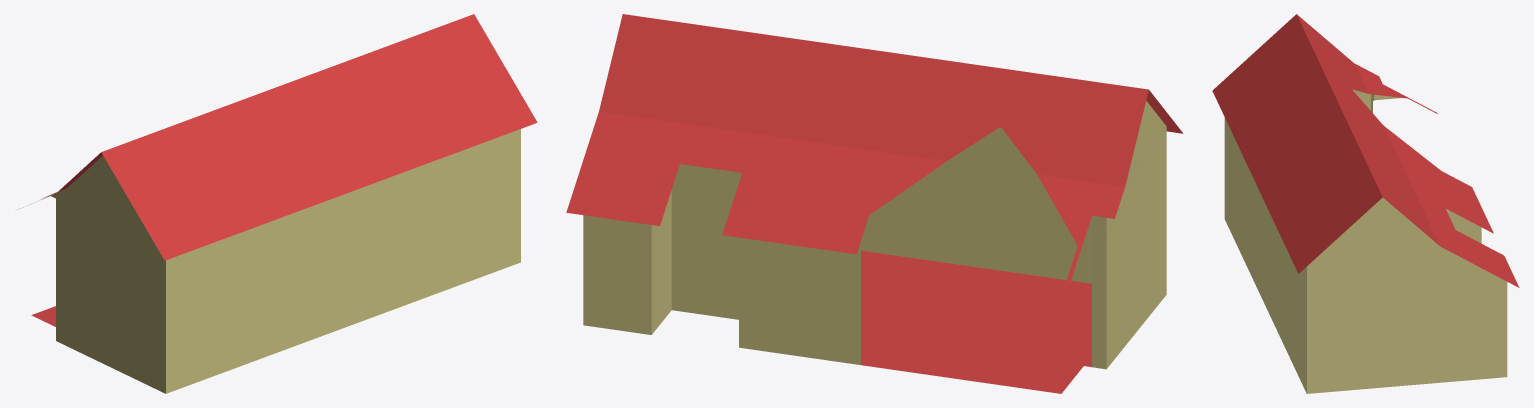
3 renders of one model, left to right at view 1: azimuth 30°, elevation 25°; view 2: azimuth 150°, elevation 25°; view 3: azimuth 270°, elevation 25°, orthographic. The views are drawn at different scales.
Bounding box in the file's own units: 32.94 × 21.68 × 15.15.
